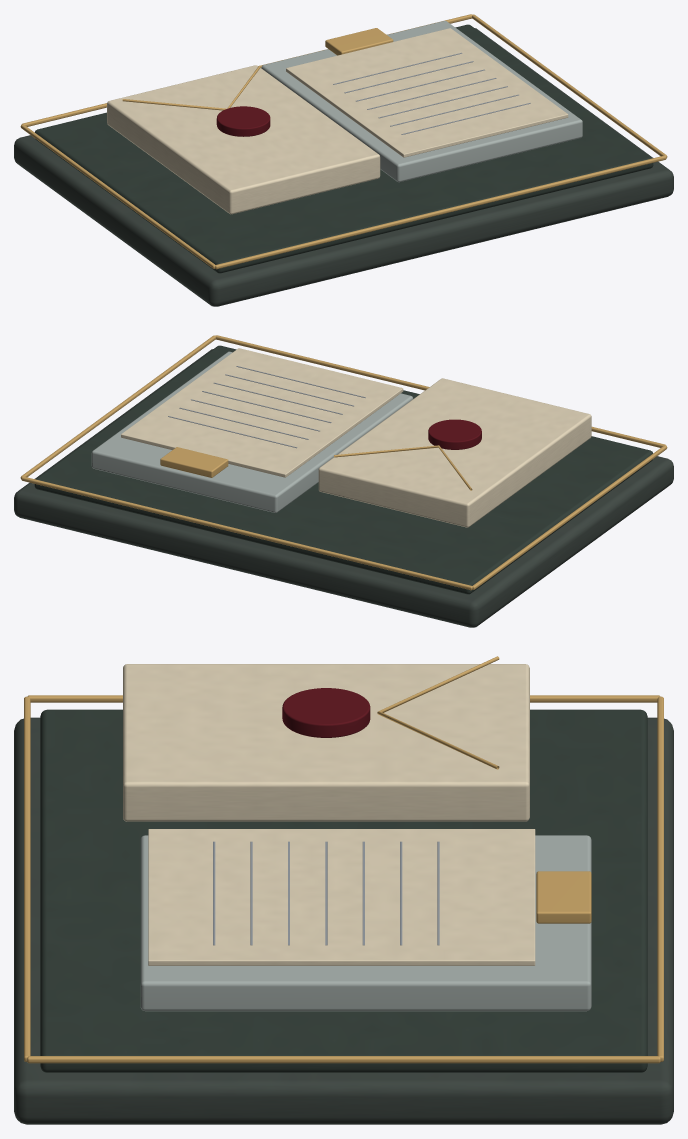
The model's file is archive-folios.glb.
3 renders of one model, top to bottom at view 1: azimuth 30°, elevation 25°; view 2: azimuth 150°, elevation 25°; view 3: azimuth 270°, elevation 25°, orthographic. The views are drawn at different scales.
Parts seen in each view (by area): view 1: felt_insert, display_base, sealed_envelope, document_page, digital_folder, brass_rim_Front, seal, brass_rim_Left, brass_rim_Right, folder_clip, brass_rim_Back, flap_edge; view 2: felt_insert, display_base, sealed_envelope, document_page, digital_folder, brass_rim_Back, brass_rim_Front, seal, folder_clip, brass_rim_Left, brass_rim_Right, flap_edge; view 3: felt_insert, sealed_envelope, document_page, display_base, digital_folder, brass_rim_Right, seal, folder_clip, brass_rim_Back, brass_rim_Front, brass_rim_Left, flap_edge.
Boxes of the visible parts, x1,y1,x2,y2 form: felt_insert: [35, 24, 653, 273]; display_base: [14, 28, 673, 306]; sealed_envelope: [107, 65, 380, 214]; document_page: [286, 28, 568, 157]; digital_folder: [261, 21, 582, 182]; brass_rim_Front: [215, 155, 666, 269]; seal: [216, 106, 270, 136]; brass_rim_Left: [20, 124, 215, 268]; brass_rim_Right: [472, 14, 667, 158]; folder_clip: [325, 28, 393, 55]; brass_rim_Back: [21, 14, 472, 126]; flap_edge: [122, 65, 260, 110]; felt_insert: [34, 345, 652, 594]; display_base: [14, 349, 673, 627]; sealed_envelope: [318, 378, 591, 527]; document_page: [121, 348, 403, 477]; digital_folder: [91, 351, 413, 512]; brass_rim_Back: [21, 476, 472, 590]; brass_rim_Front: [215, 335, 666, 447]; seal: [428, 419, 481, 449]; folder_clip: [160, 447, 228, 477]; brass_rim_Left: [472, 445, 667, 589]; brass_rim_Right: [20, 335, 215, 479]; flap_edge: [334, 445, 472, 490]; felt_insert: [40, 709, 647, 1072]; sealed_envelope: [123, 664, 529, 821]; document_page: [148, 829, 535, 965]; display_base: [14, 717, 673, 1124]; digital_folder: [140, 835, 591, 1011]; brass_rim_Right: [27, 1056, 660, 1063]; seal: [282, 688, 370, 737]; folder_clip: [536, 871, 591, 923]; brass_rim_Back: [657, 696, 663, 1061]; brass_rim_Front: [24, 696, 30, 1061]; brass_rim_Left: [27, 695, 660, 702]; flap_edge: [377, 656, 499, 769].
Bounding box in the file's own units: 0.4 × 0.0765 × 0.3.
Materials: 7 (4 with a texture image).
